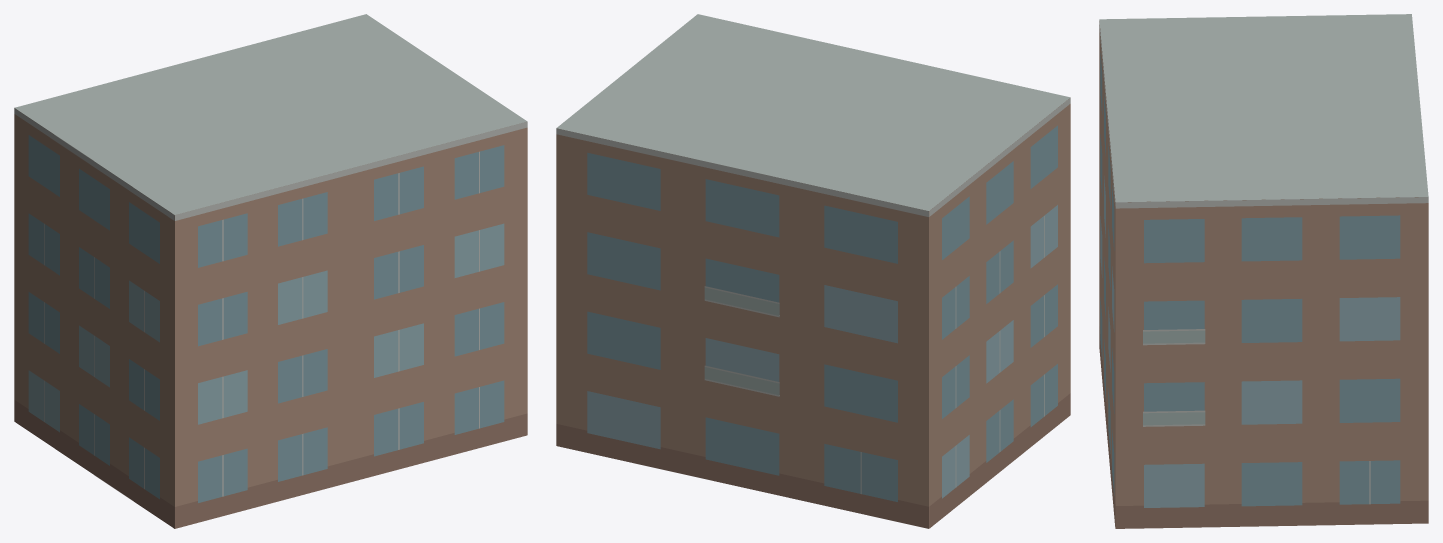
Rendered from survey-upis-32989231.glb.
3 views of the same model, side by side, from view 1: azimuth 30°, elevation 25°; view 2: azimuth 150°, elevation 25°; view 3: azimuth 270°, elevation 25° (orthographic). The views are drawn at different scales.
Visible parts, largest first — view 1: survey-upis-32989231.tmp; view 2: survey-upis-32989231.tmp; view 3: survey-upis-32989231.tmp.
Boxes of the visible parts, x1,y1,x2,y2 form: survey-upis-32989231.tmp: [14, 14, 527, 528]; survey-upis-32989231.tmp: [556, 14, 1070, 528]; survey-upis-32989231.tmp: [1099, 14, 1428, 528].
Size of the model in its own units: 15.84 by 12.8 by 11.71.
